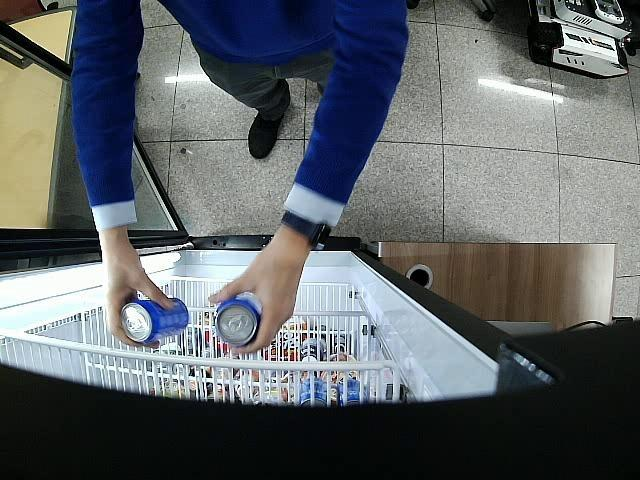13_pocariSweat: (122, 297, 188, 339), (216, 297, 260, 346)
